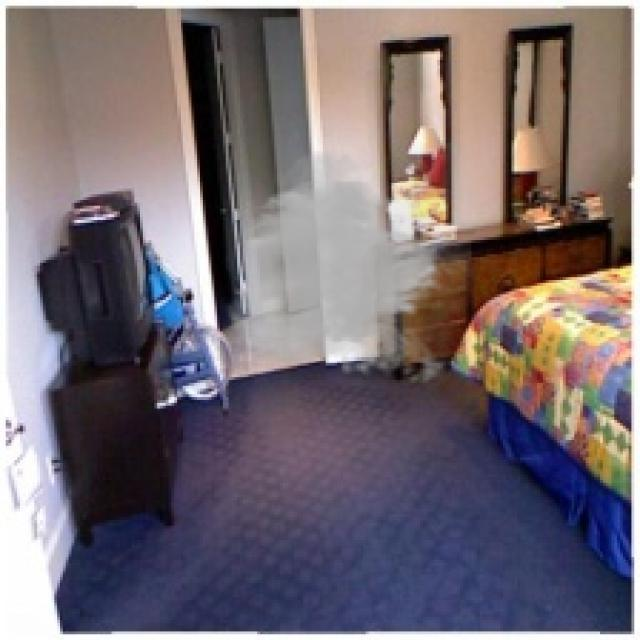Smoke: (223, 142, 471, 392)
